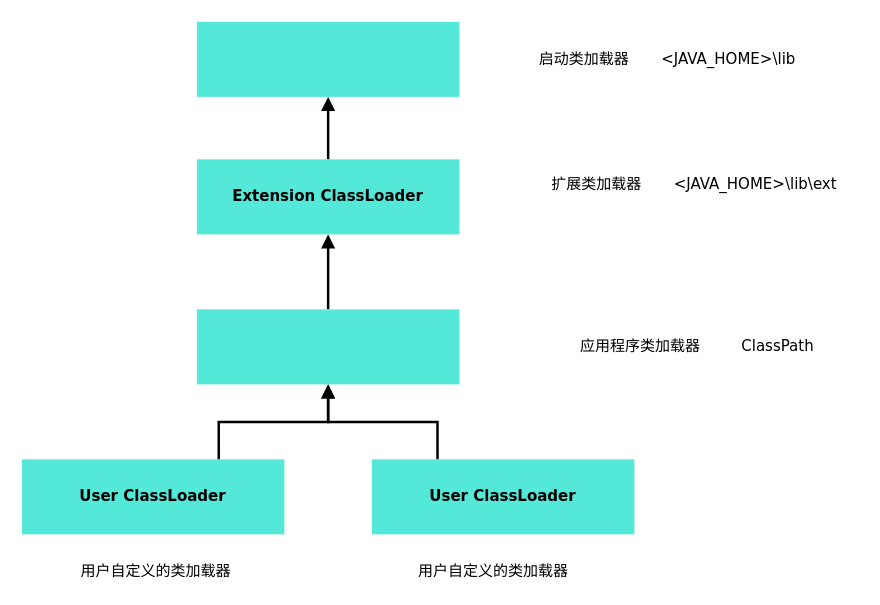
The diagram is 880 pixels wide and 605 high, and some of its shapes have lost their labels. The shapes that lost their labels are listed below. From the top down, each one's centre as x and y in pixels, then its label:
point 327,58: Bootstrap ClassLoader
point 327,346: Appliaction ClassLoader
